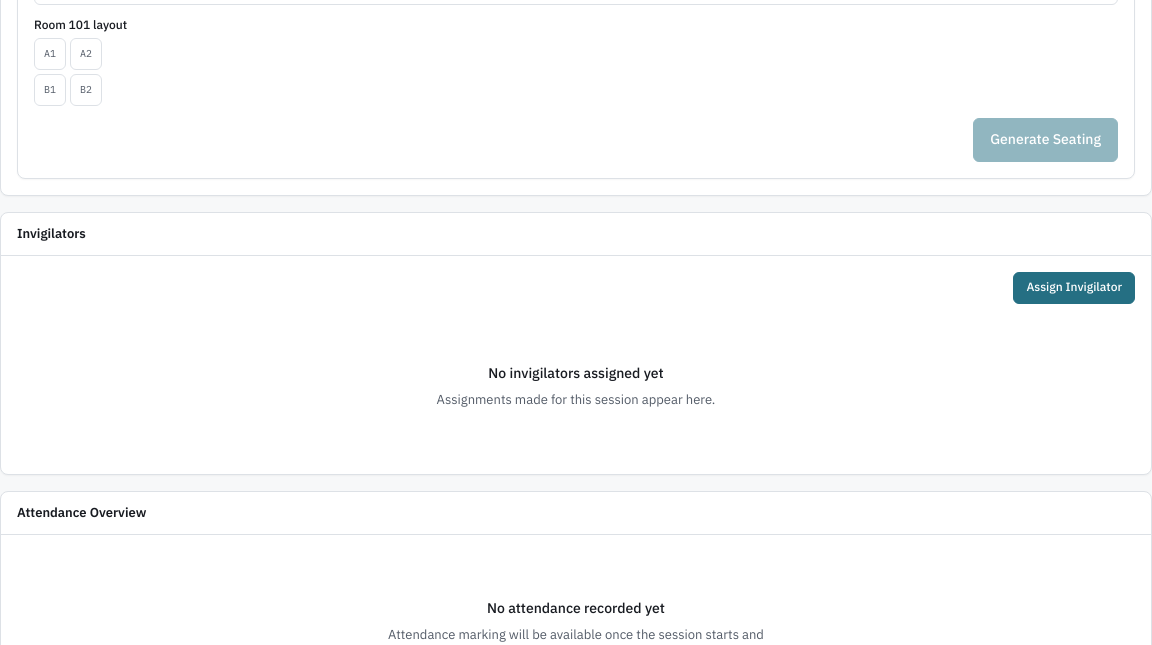
Test: Invigilator assignment › assigns an invigilator successfully
(page scrolled)
Click the button "Assign Invigilator": (1074,288) [1013,272,1135,304]
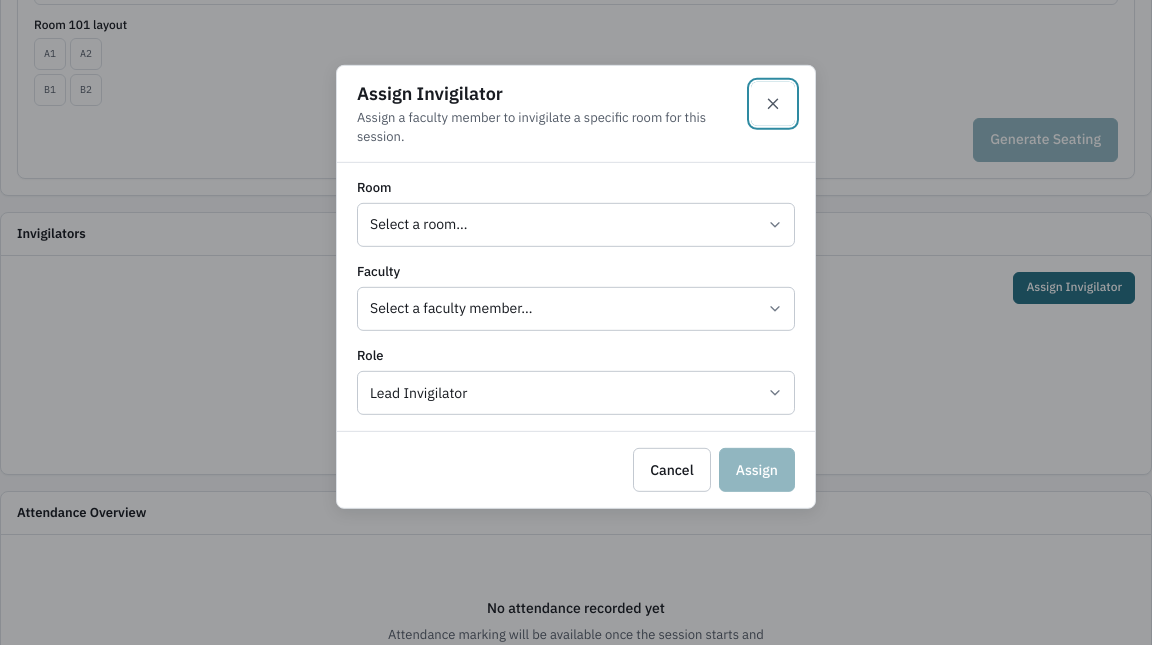
Select "Main Hall · Room 101" in the dropdown labelled "Room": (576,225) [357,203,795,247]
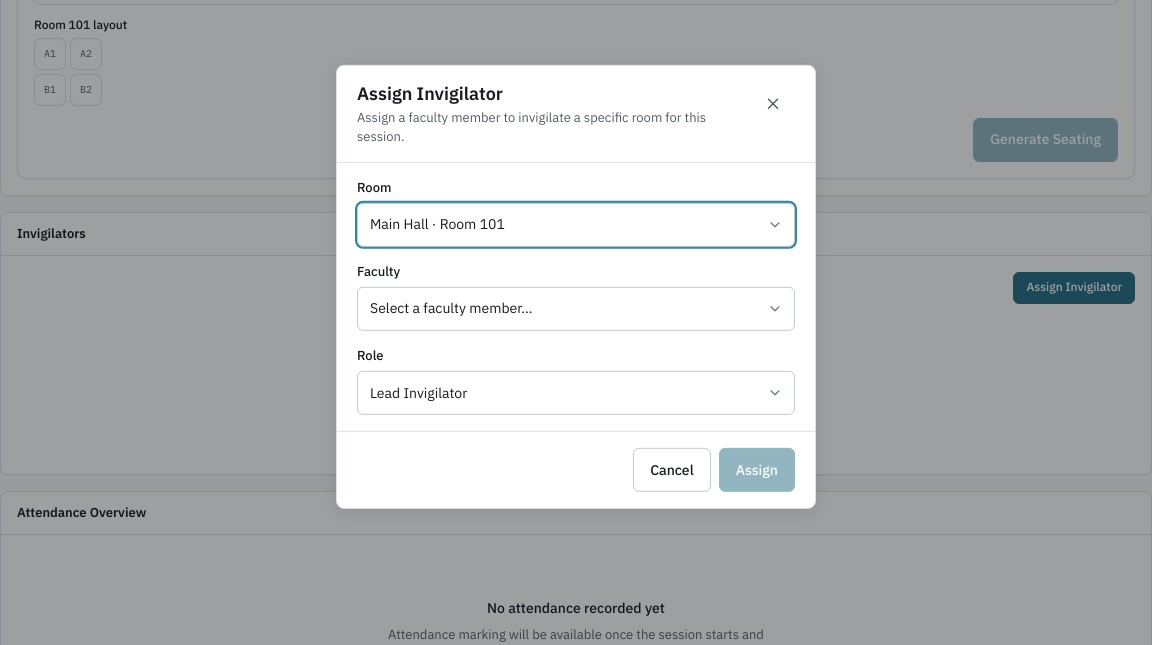
Select "Dr. Smith" in the dropdown labelled "Faculty": (576,309) [357,287,795,331]
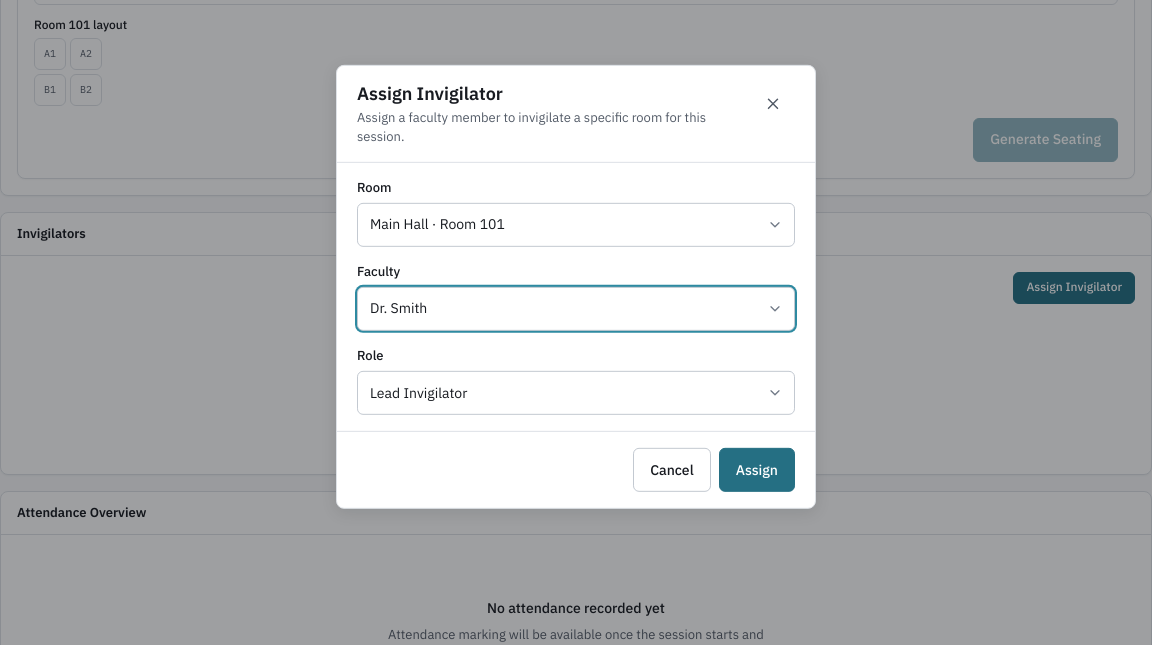
Select "Lead Invigilator" in the dropdown labelled "Role": (576,393) [357,371,795,415]
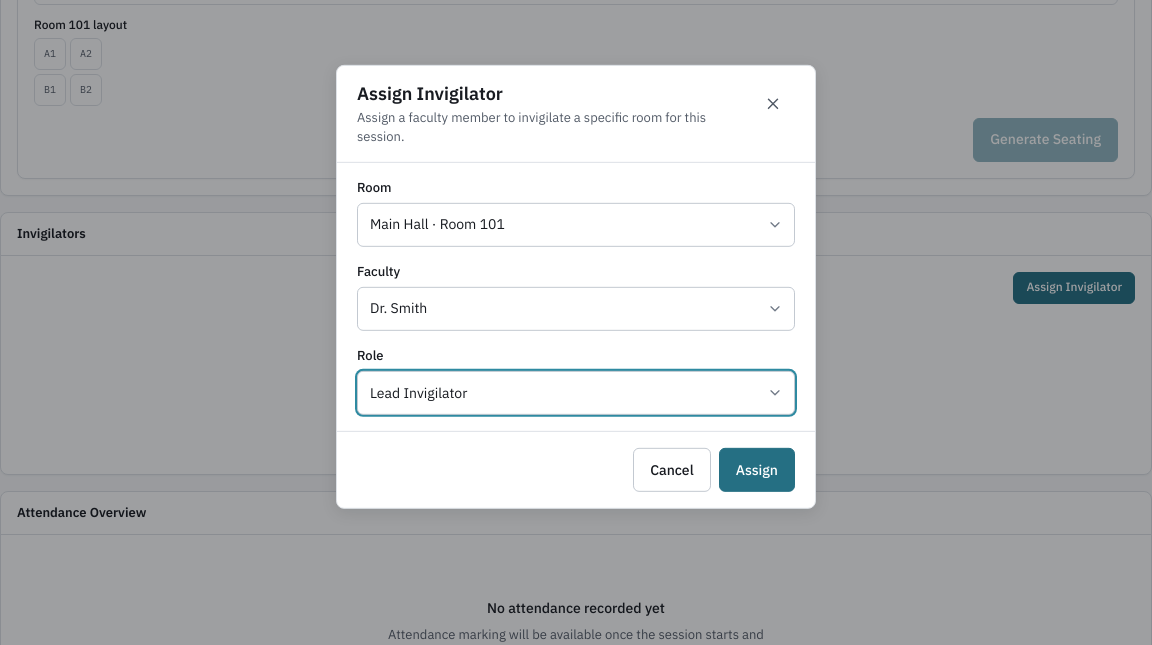
Click the button "Assign": (757,470) [719,448,795,492]
(page scrolled)
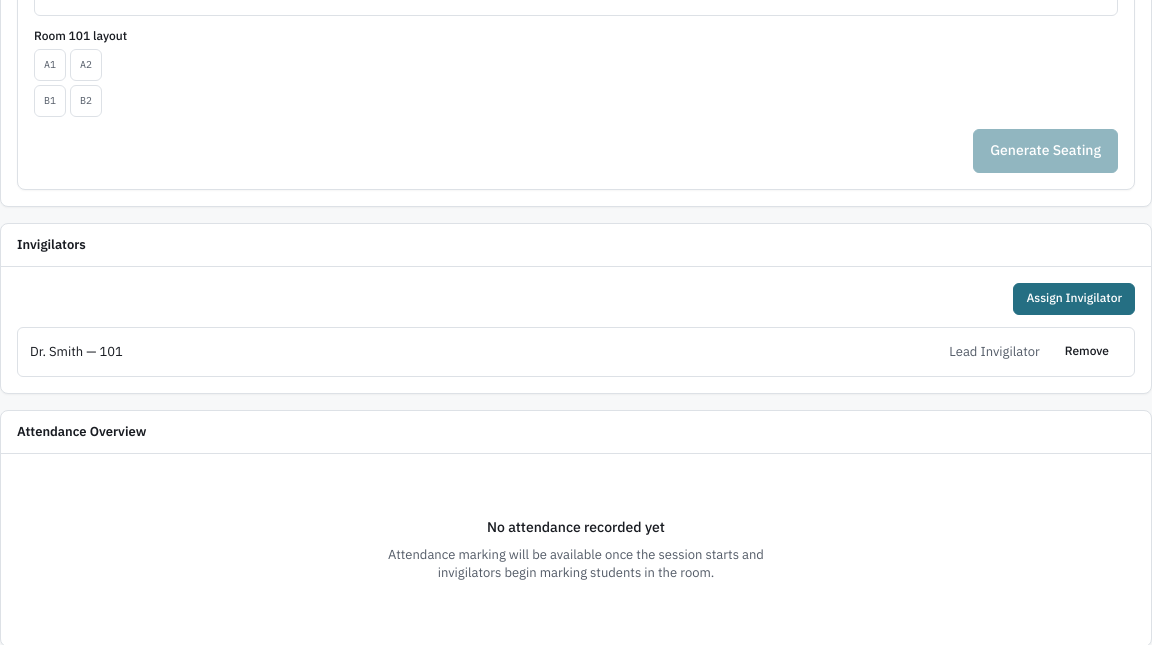
Result: the text "Dr. Smith — 101" is shown at [30,343,123,361]
